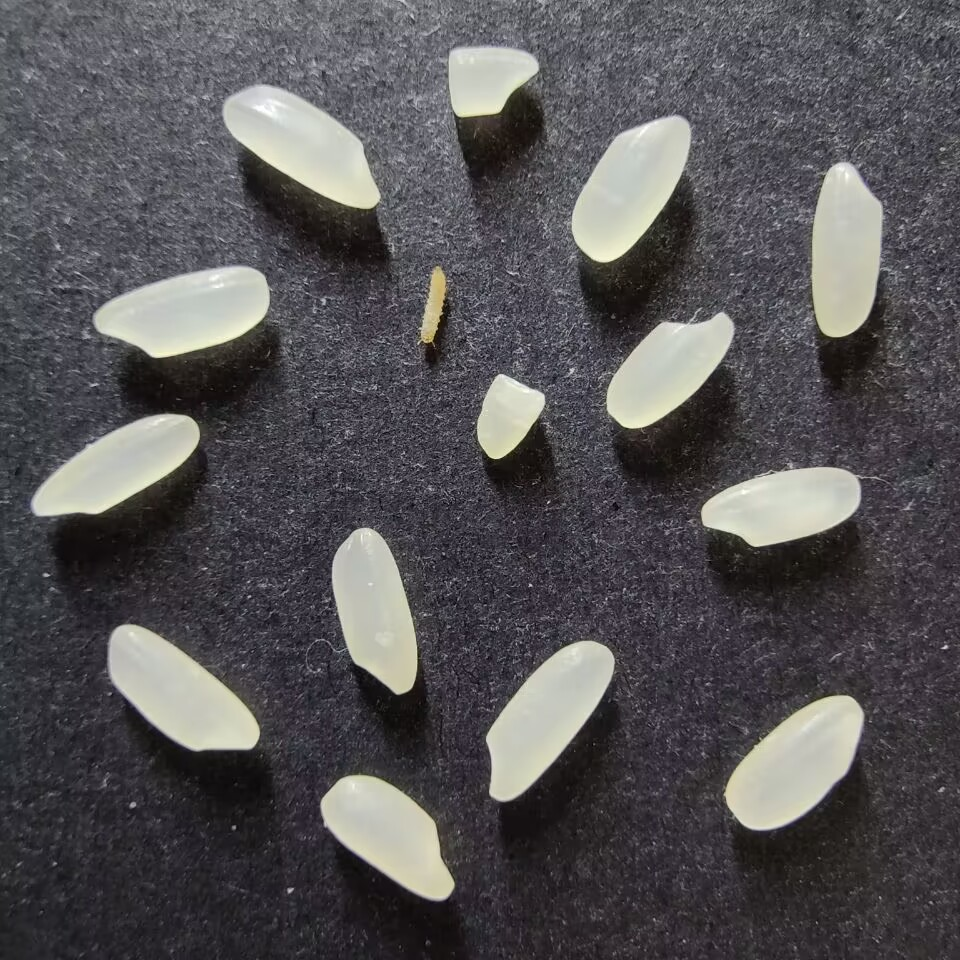broken: (446, 45, 538, 118), (475, 373, 545, 460)
others: (415, 265, 446, 347)
rice: (484, 639, 615, 802), (107, 622, 260, 752), (221, 85, 380, 209), (724, 693, 863, 831), (31, 412, 200, 518), (570, 115, 691, 262), (319, 774, 455, 901), (93, 266, 270, 358), (605, 310, 734, 429), (331, 527, 418, 695), (700, 465, 861, 547), (810, 162, 883, 337)
